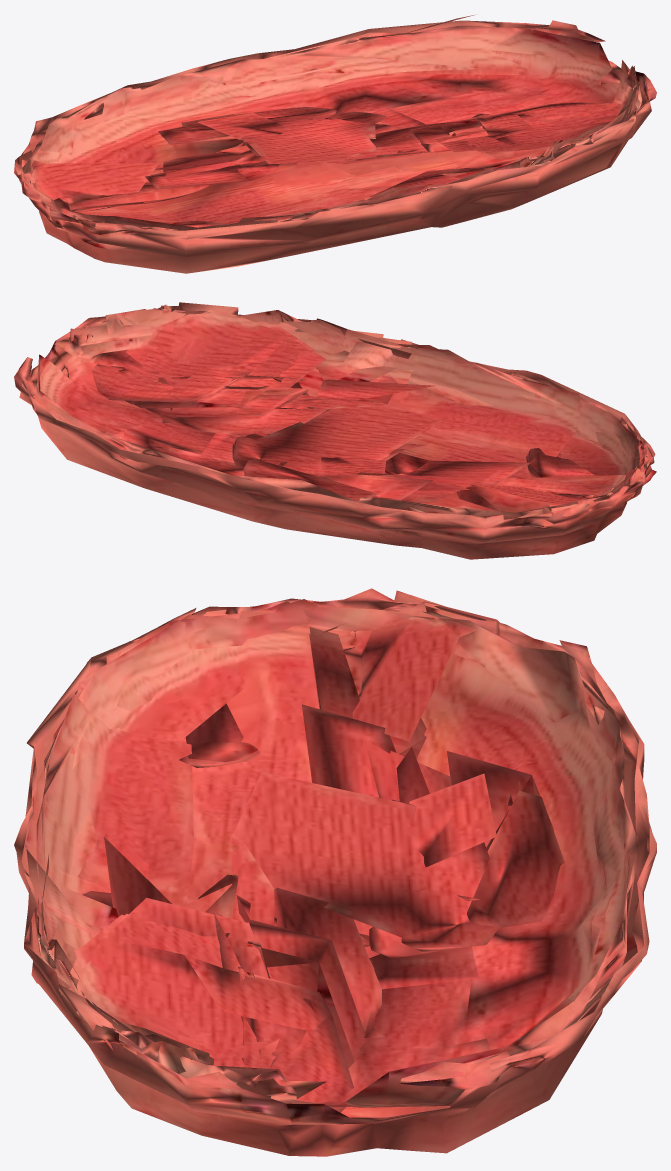
File: s1_gen_basket_red.glb
3 renders of one model, top to bottom at view 1: azimuth 30°, elevation 25°; view 2: azimuth 150°, elevation 25°; view 3: azimuth 270°, elevation 25°, orthographic. The views are drawn at different scales.
Size of the model in its own units: 1.83 by 0.1956 by 1.01.
Materials: 1 (1 with a texture image).
